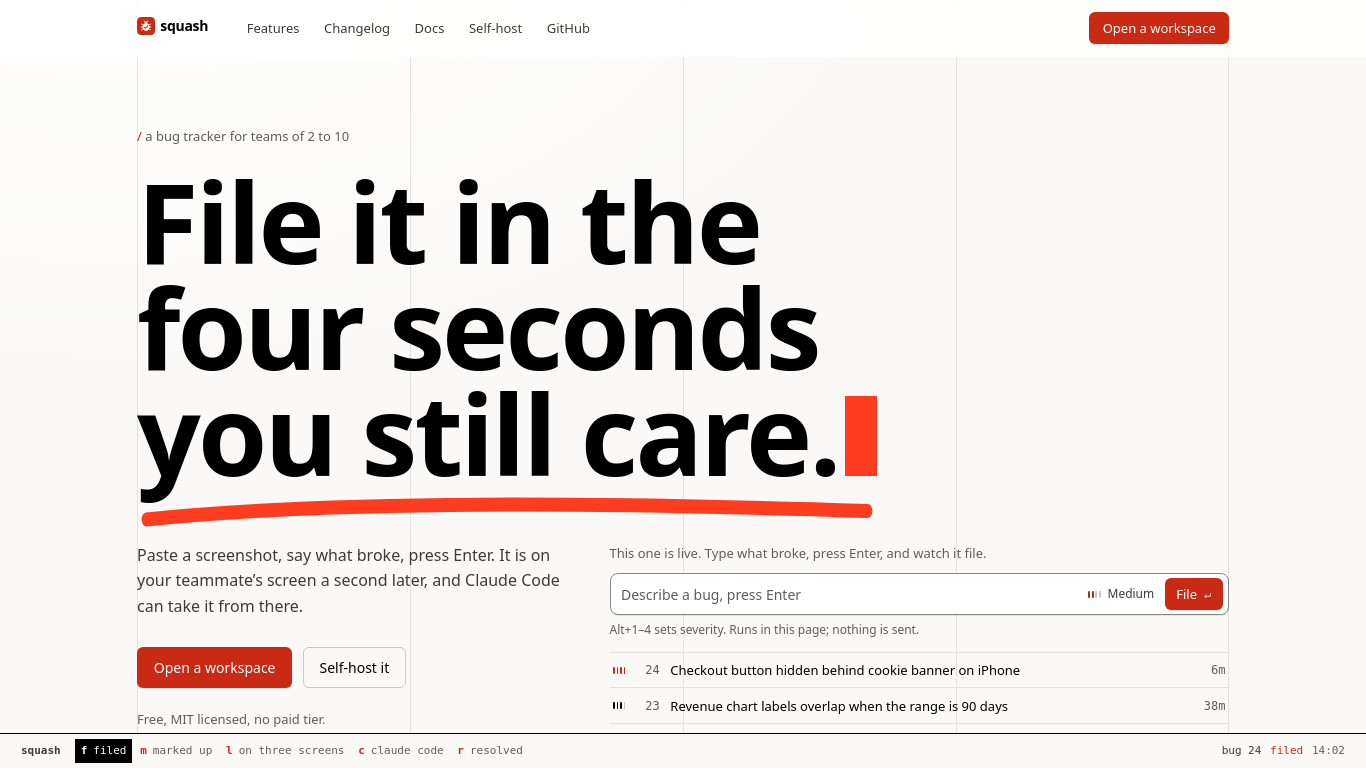
Scenario: Landing › files a bug in the capture bar demo without touching the network
The image size is (1366, 768).
Submit the form named "Capture bar demo", box 610,573 -> 1229,638
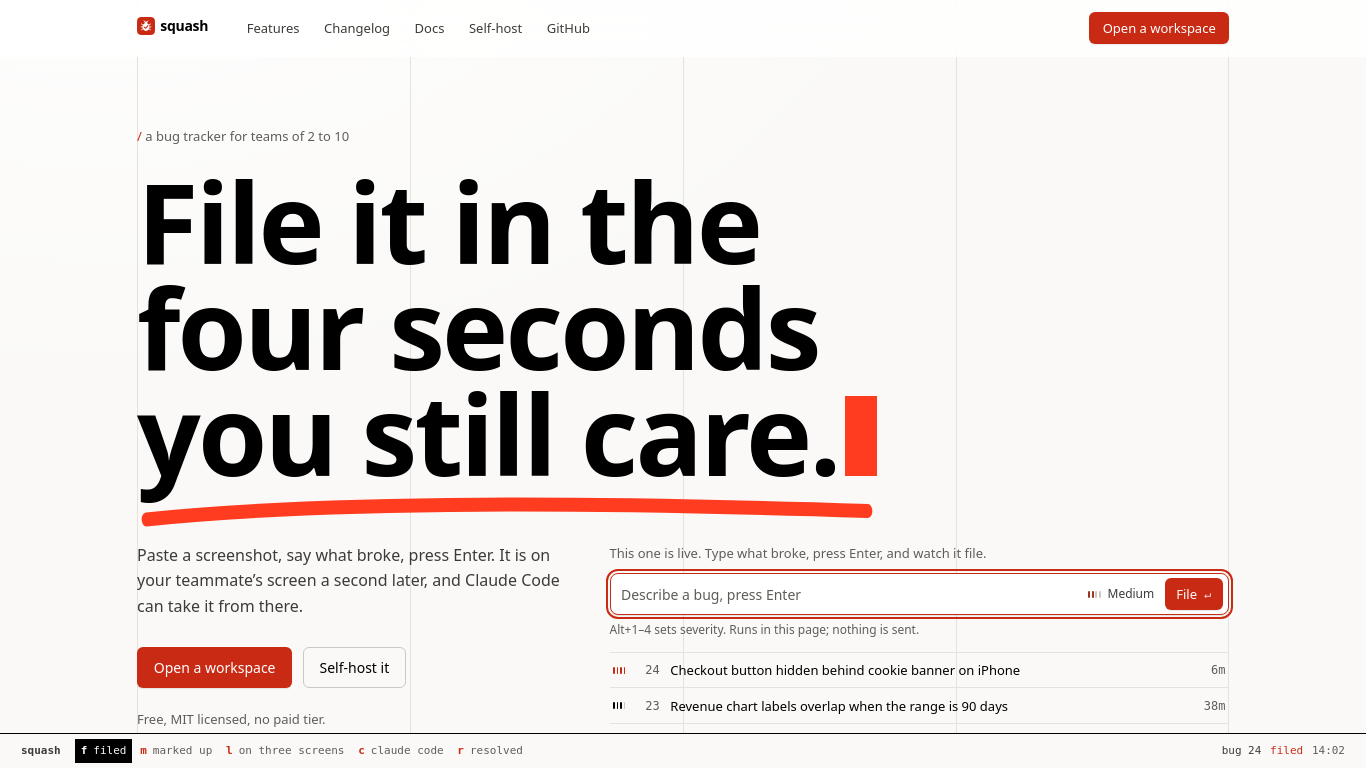
Press 4 in the field labelled "Describe a bug", box 621,574 -> 1078,614
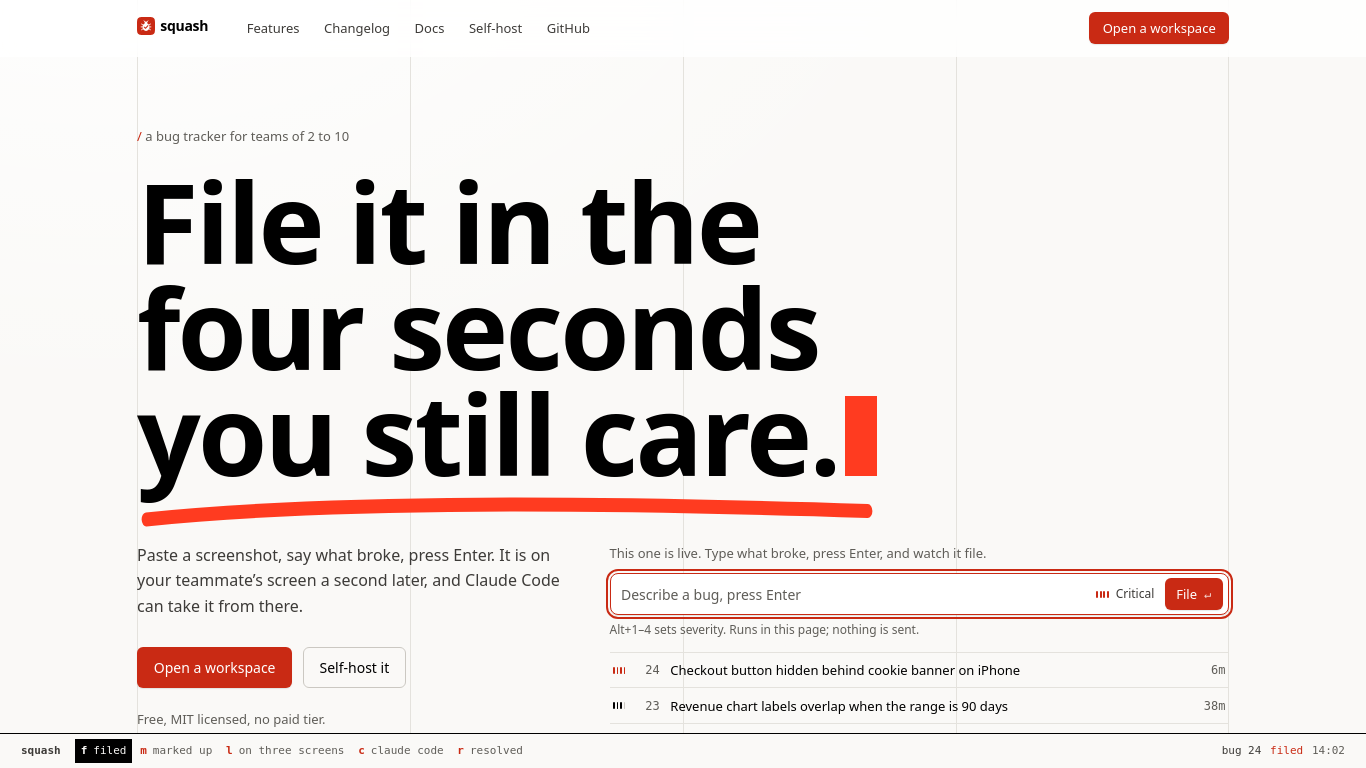
Expected: the button with aria-label "Severity: critical" is shown, 1089,578 -> 1161,610
Type "Pricing toggle resets on reload" into the field labelled "Describe a bug". click: (853, 594)
box: 621,574 -> 1086,614
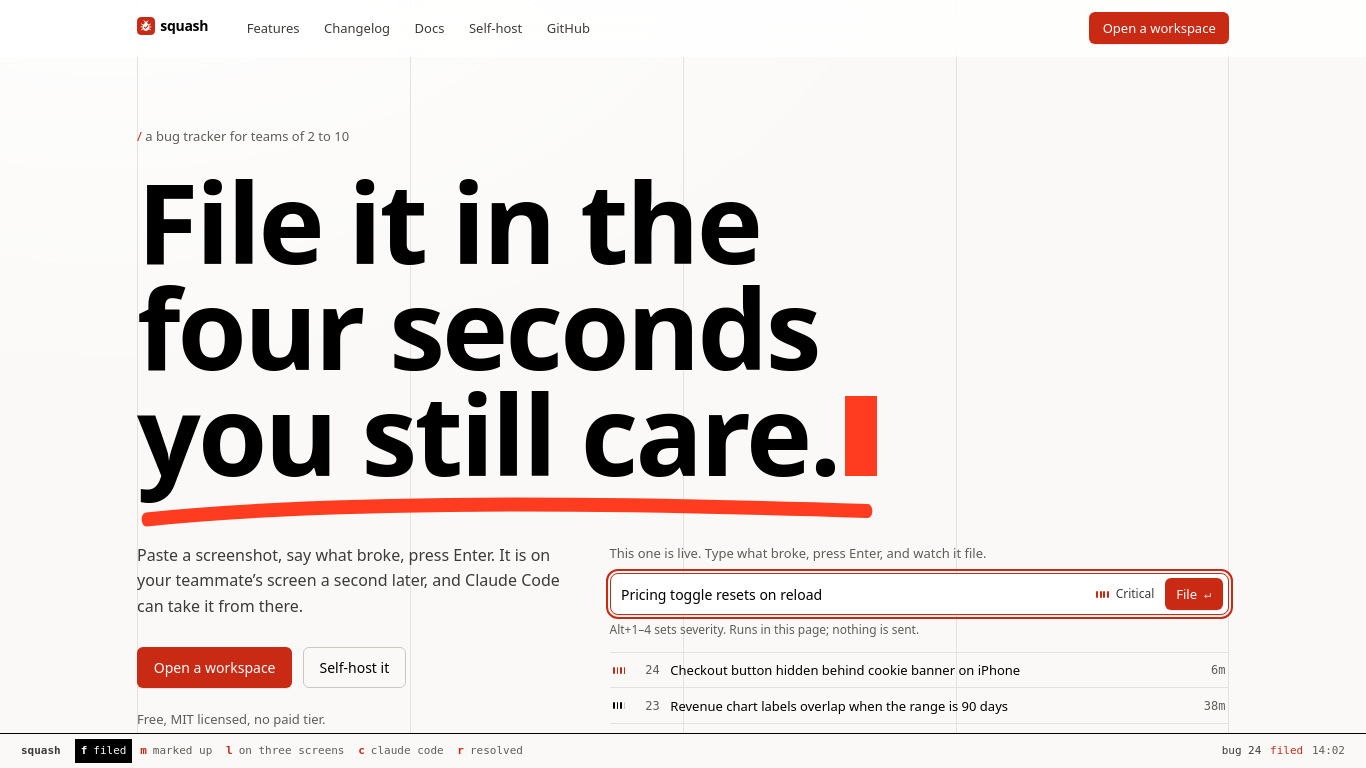
Submit the form named "Capture bar demo", box 610,573 -> 1229,638
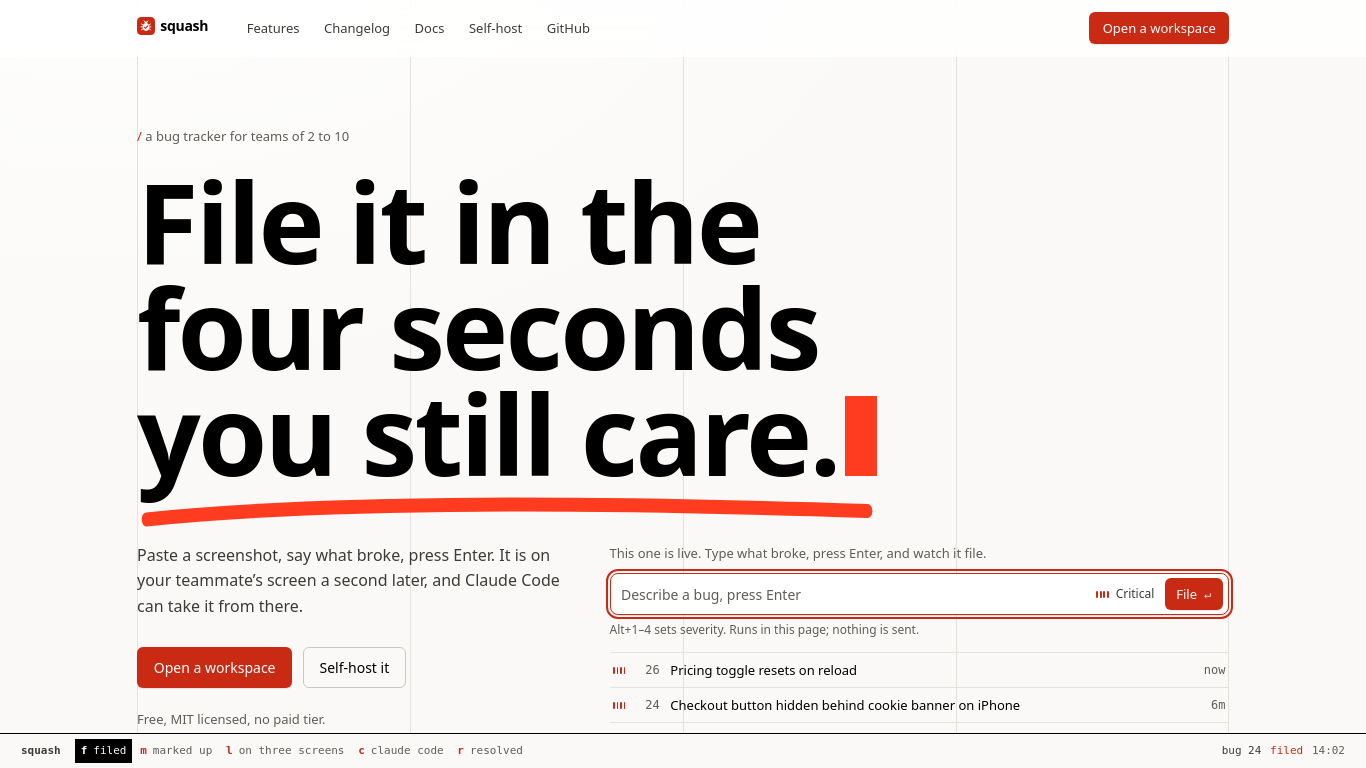
Expected: the field labelled "Describe a bug" is empty, 621,574 -> 1086,614
Expected: the list item "26 Pricing toggle resets on reload now" is shown, 610,653 -> 1229,688
